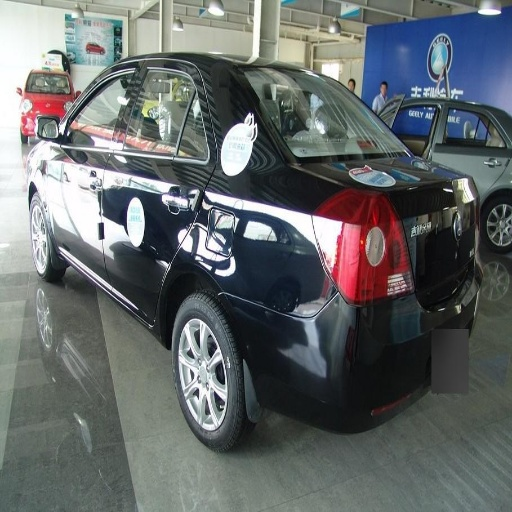back_bumper: (268, 294, 463, 430)
back_glass: (217, 66, 399, 156)
back_left_door: (103, 58, 210, 317)
